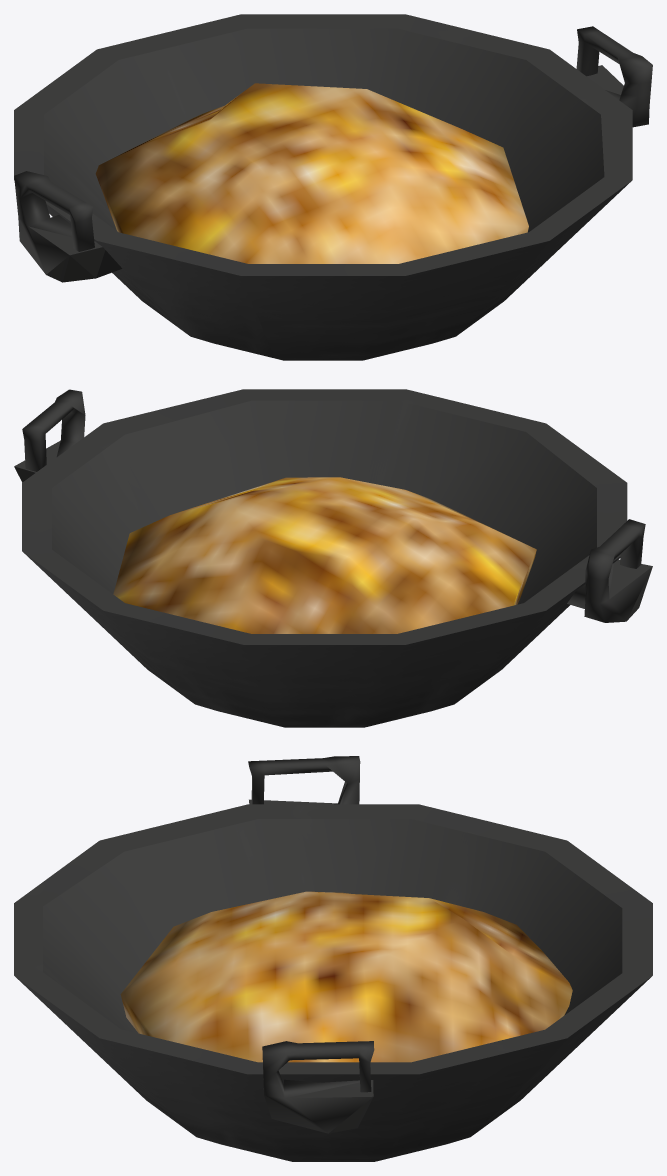
File: Wokpan_Full.fbx
The picture shows the model from 3 angles, top to bottom: view 1: azimuth 30°, elevation 25°; view 2: azimuth 150°, elevation 25°; view 3: azimuth 270°, elevation 25°; orthographic projection. The views are drawn at different scales.
Visible parts, largest first — view 1: WokpanFood; view 2: WokpanFood; view 3: WokpanFood.
Boxes of the visible parts, x1,y1,x2,y2 form: WokpanFood: (14, 14, 652, 360); WokpanFood: (14, 389, 652, 727); WokpanFood: (14, 756, 652, 1161).
Size of the model in its own units: 62.42 by 18.77 by 56.2.
